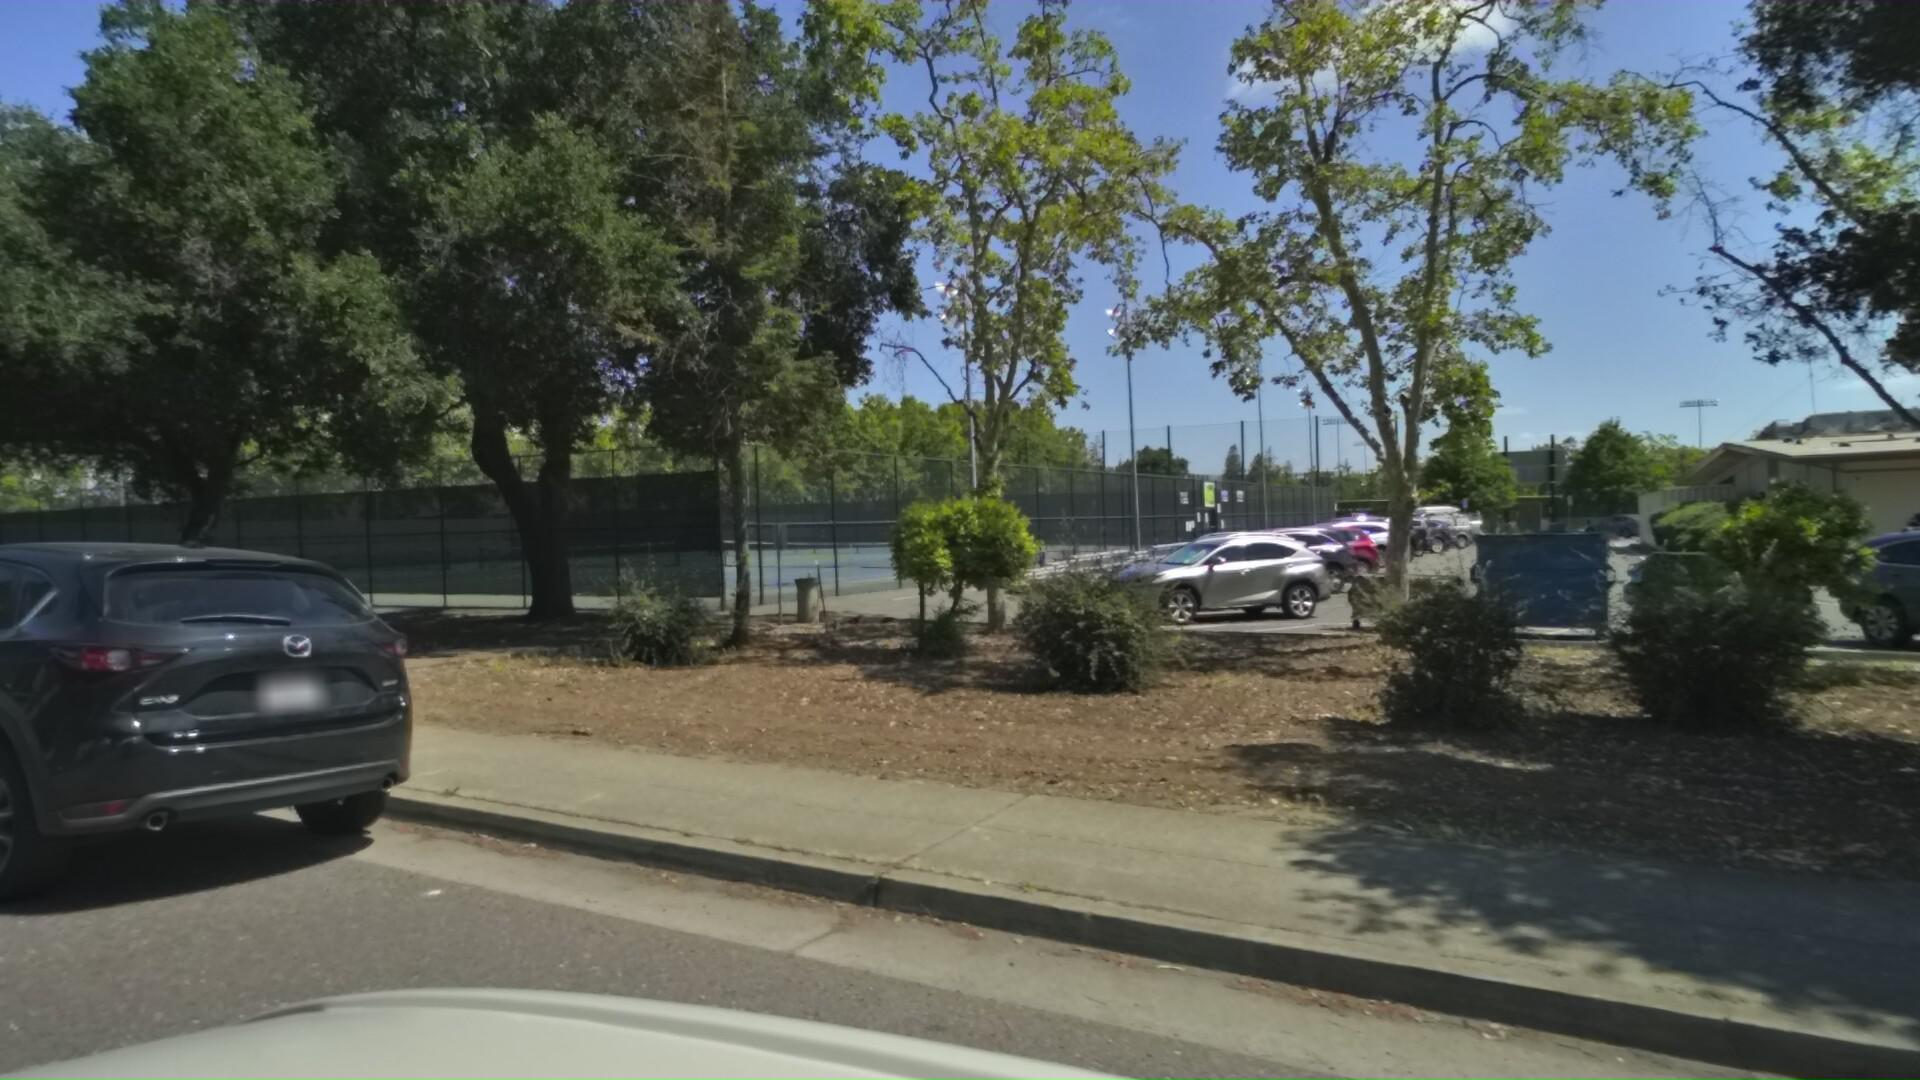car: (0, 521, 516, 996)
